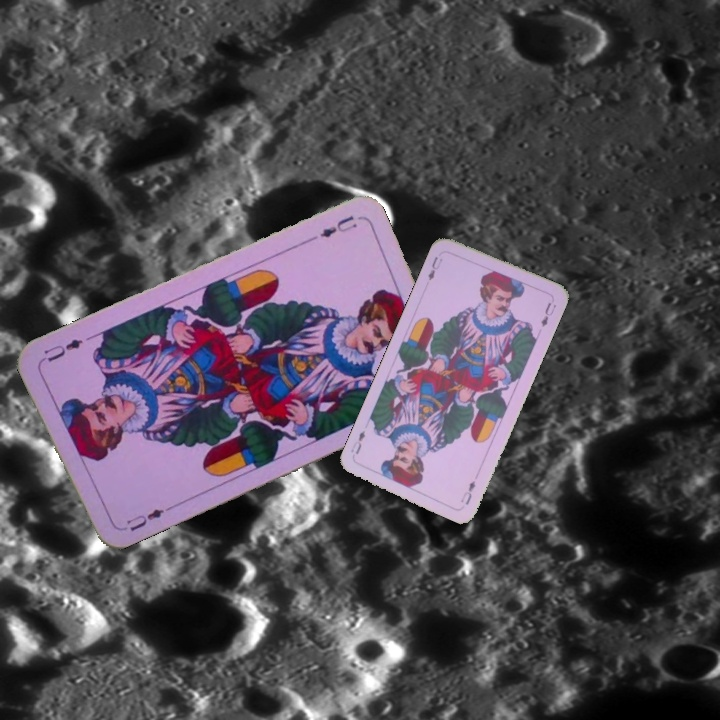EU: (115, 504, 171, 534), (316, 211, 360, 241), (456, 477, 478, 507), (424, 252, 445, 283)
